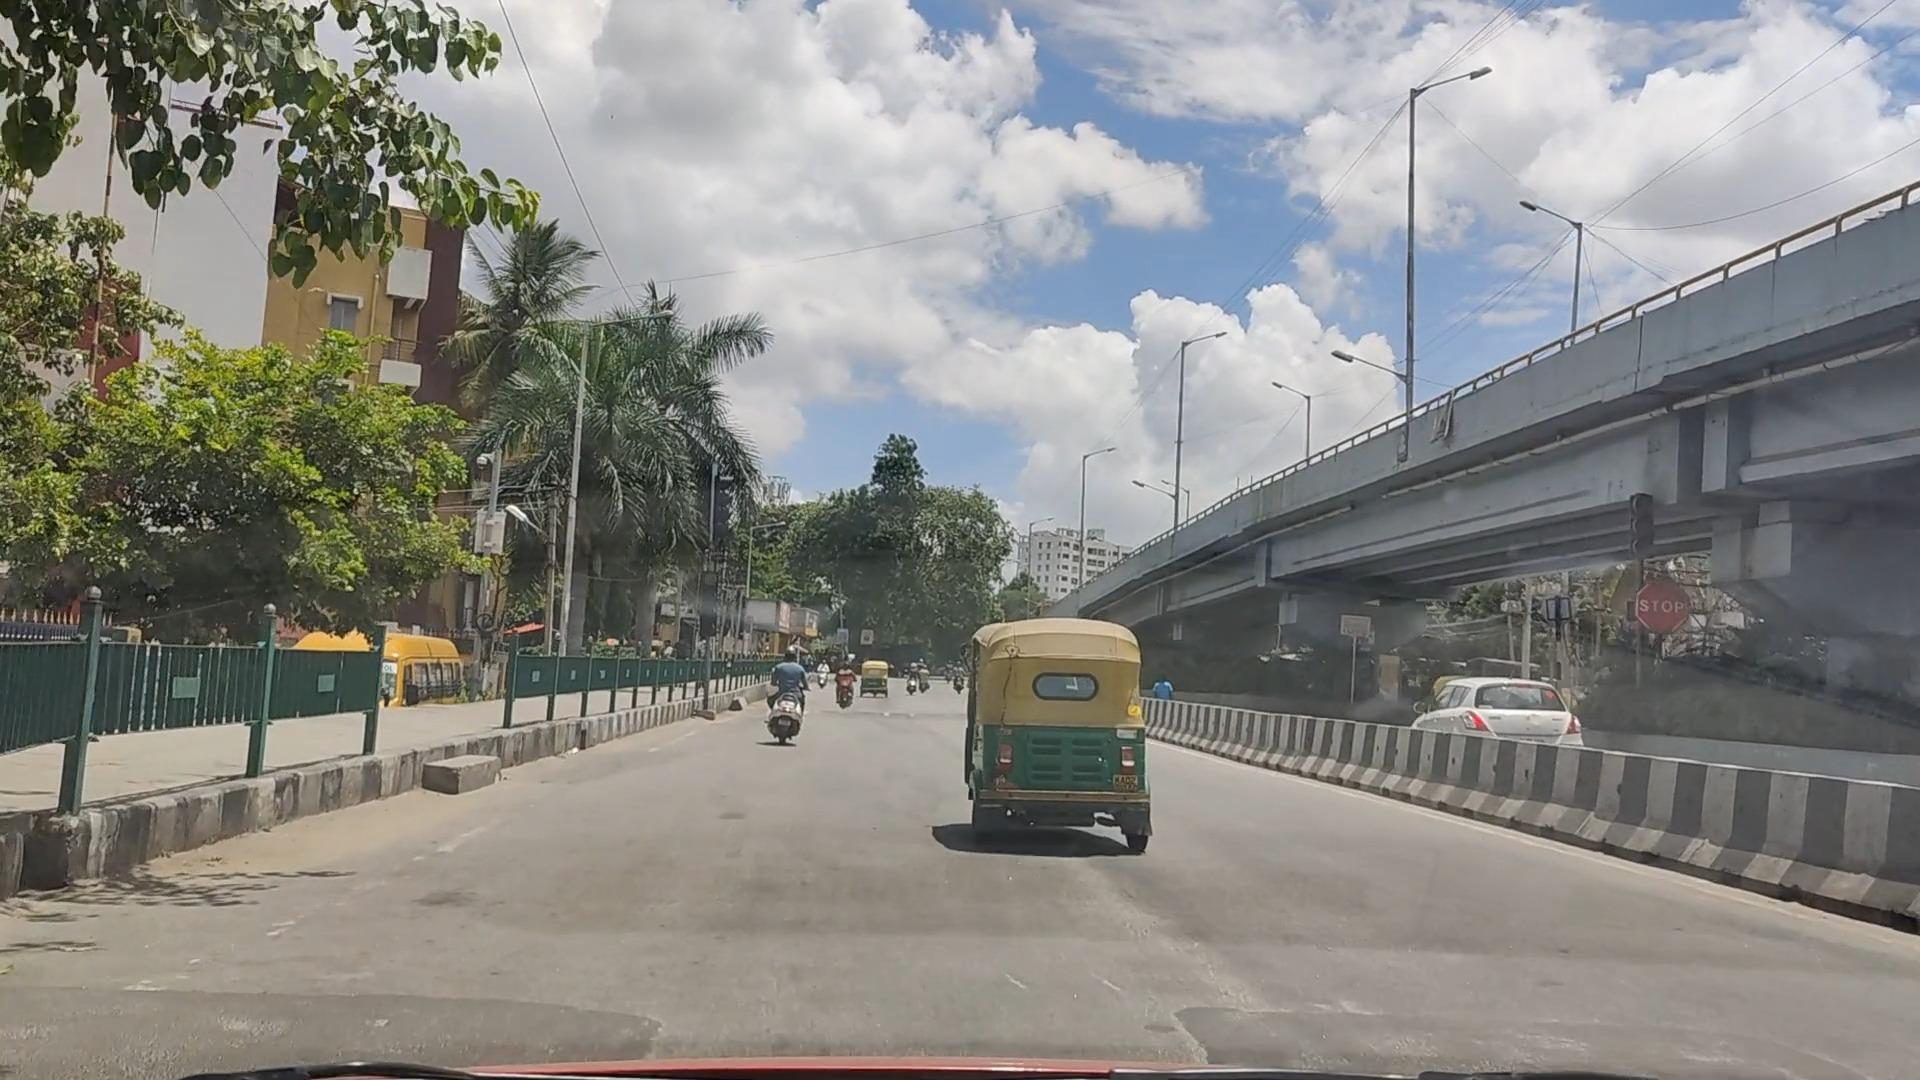LMV: (971, 609, 1159, 836)
RoadDamages: (975, 935, 1346, 1052)
